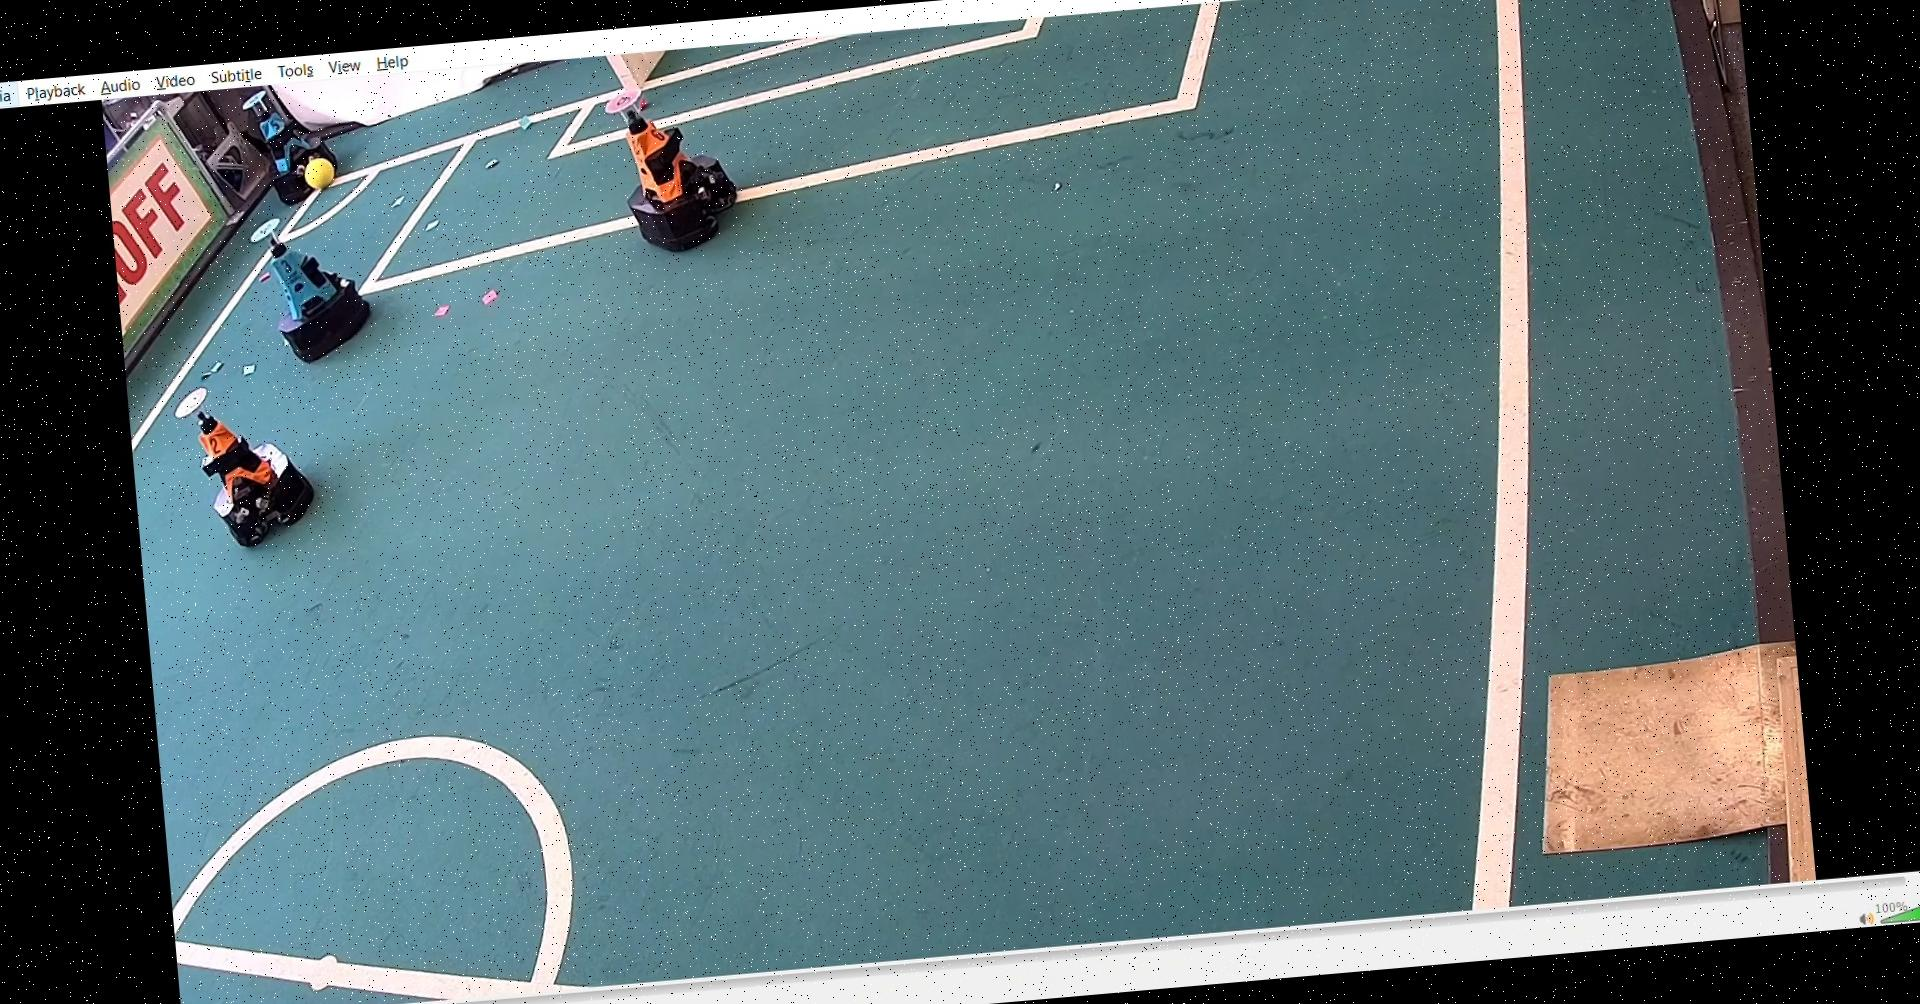Ball: (301, 150, 340, 193)
Team_Blue: (244, 217, 389, 369), (231, 83, 348, 211)
Team_Red: (604, 75, 749, 269), (174, 372, 321, 552)
